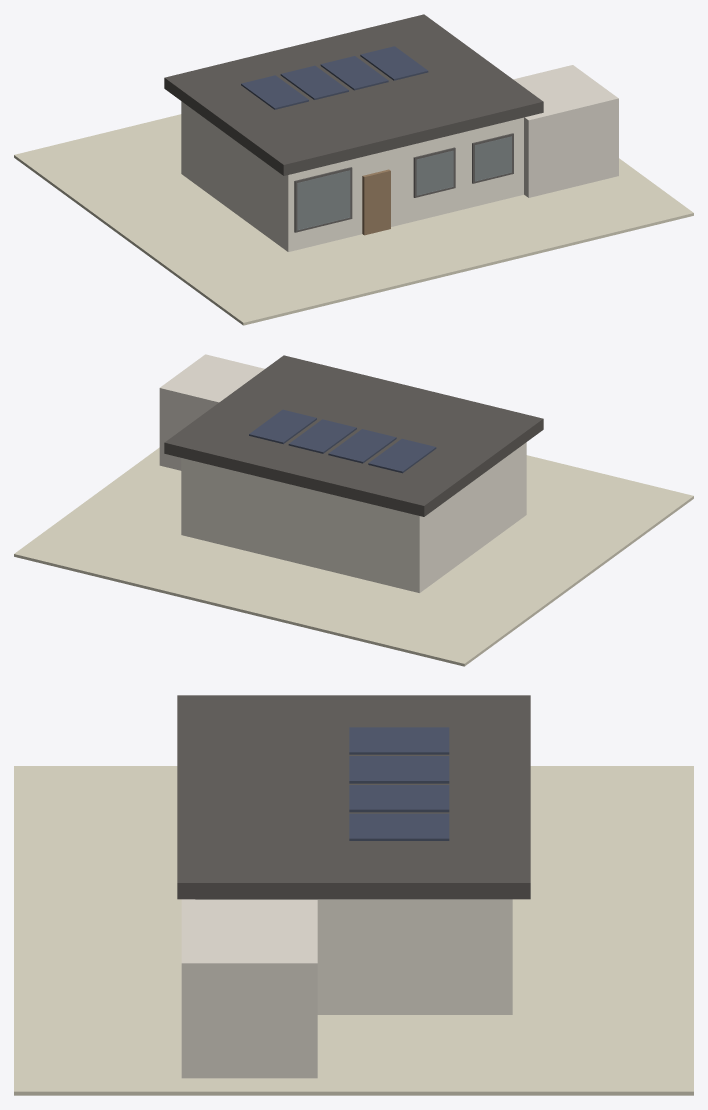
Rendered from volcan.glb.
3 views of the same model, one above another, from view 1: azimuth 30°, elevation 25°; view 2: azimuth 150°, elevation 25°; view 3: azimuth 270°, elevation 25° (orthographic). The views are drawn at different scales.
Parts seen in each view (by area): view 1: Ground, Roof, Walls, Wing, Frames, Windows, Solar, Door; view 2: Ground, Roof, Walls, Solar, Wing; view 3: Ground, Roof, Wing, Walls, Solar.
Part boxes in pixels (box(x1,y1,x2,y2)): Ground: box(14, 114, 693, 325); Roof: box(164, 14, 543, 175); Walls: box(181, 101, 523, 251); Wing: box(513, 65, 618, 197); Frames: box(294, 133, 513, 232); Windows: box(297, 136, 511, 229); Solar: box(241, 46, 428, 109); Door: box(362, 169, 390, 235); Ground: box(14, 447, 693, 666); Roof: box(164, 355, 543, 516); Walls: box(181, 442, 526, 592); Solar: box(249, 409, 436, 473); Wing: box(159, 354, 264, 470); Ground: box(14, 766, 693, 1095); Roof: box(177, 695, 530, 899); Wing: box(181, 899, 317, 1078); Walls: box(195, 899, 512, 1014); Solar: box(349, 727, 449, 840).
Size of the model in its own units: 17 by 3.58 by 15.
